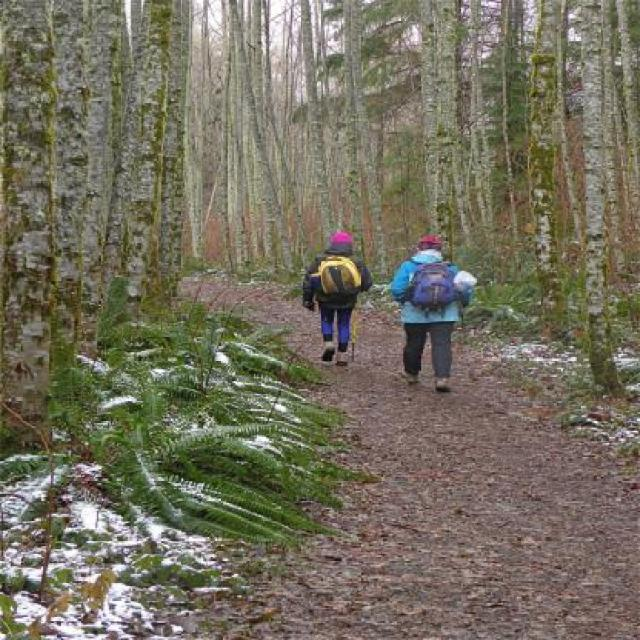obstacle: (385, 236, 477, 393), (312, 222, 378, 358)
